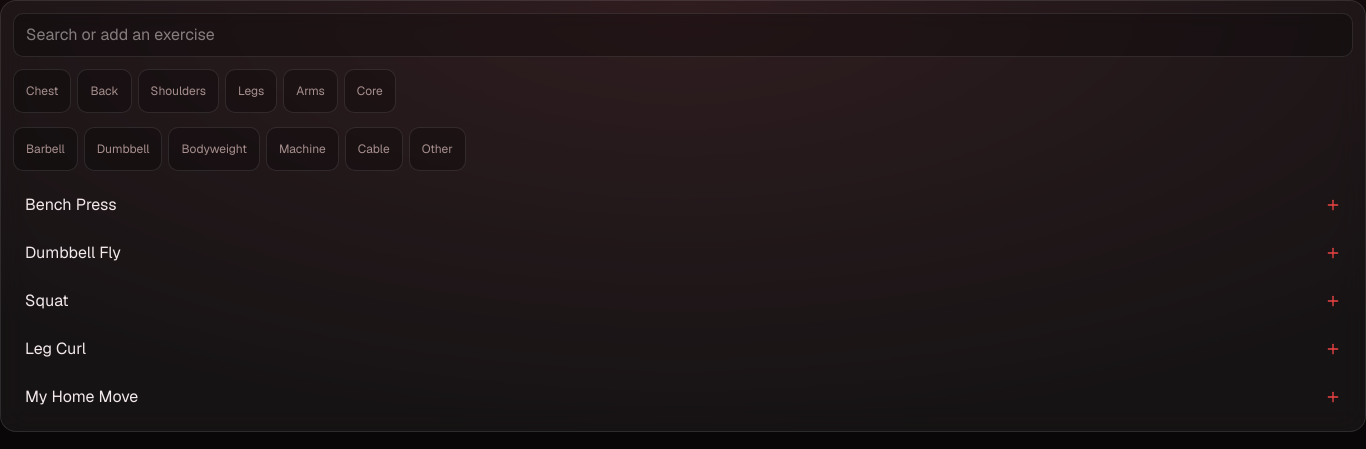
Scenario: ExercisePicker filters › says so when the filters exclude everything
Click the button "Core".
click(370, 91)  # box top-left (344, 69), bottom-right (396, 113)
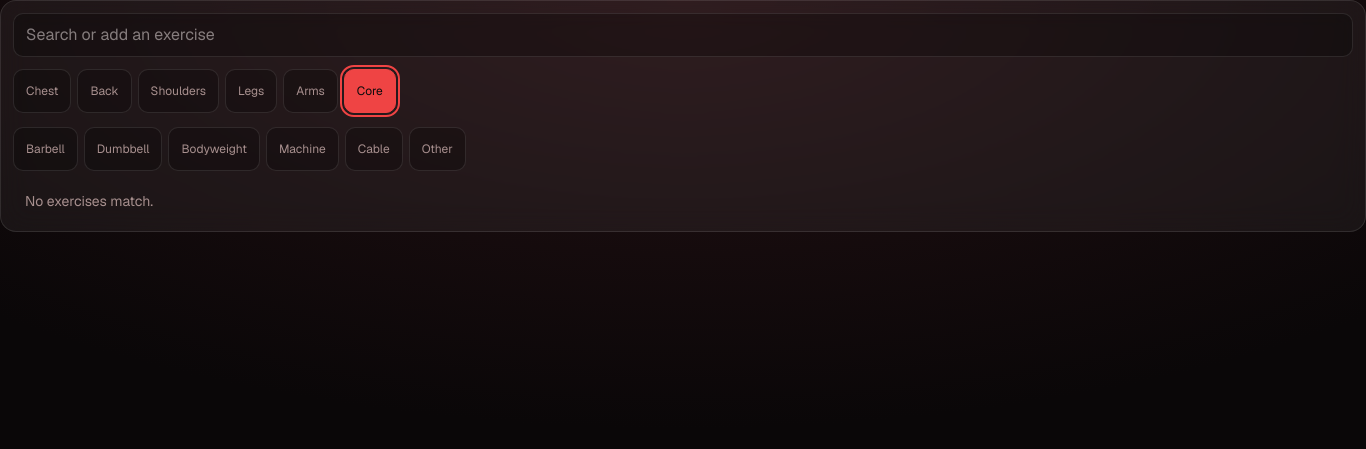
Expected: the list item "No exercises match." is shown, top-left (25, 192), bottom-right (153, 210)
